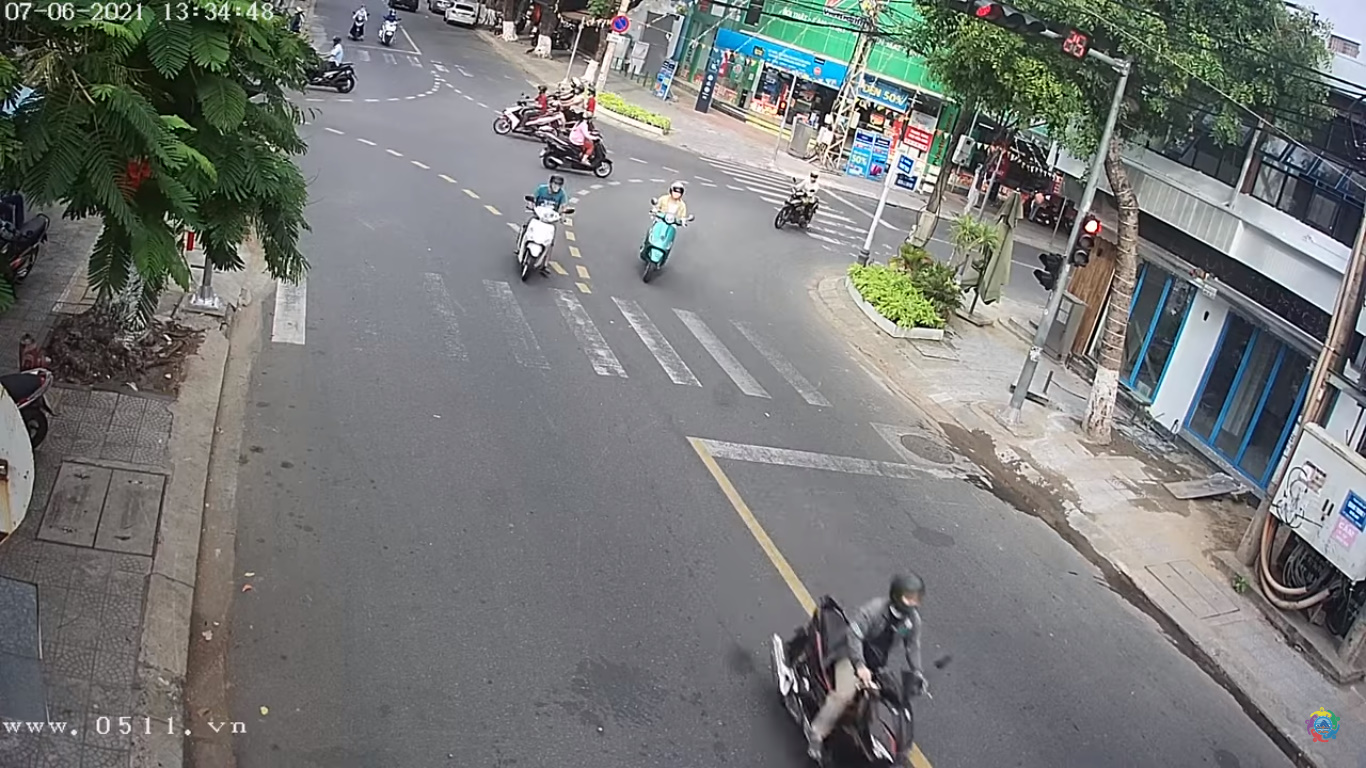motorbike: (517, 184, 563, 274), (642, 185, 684, 281)
